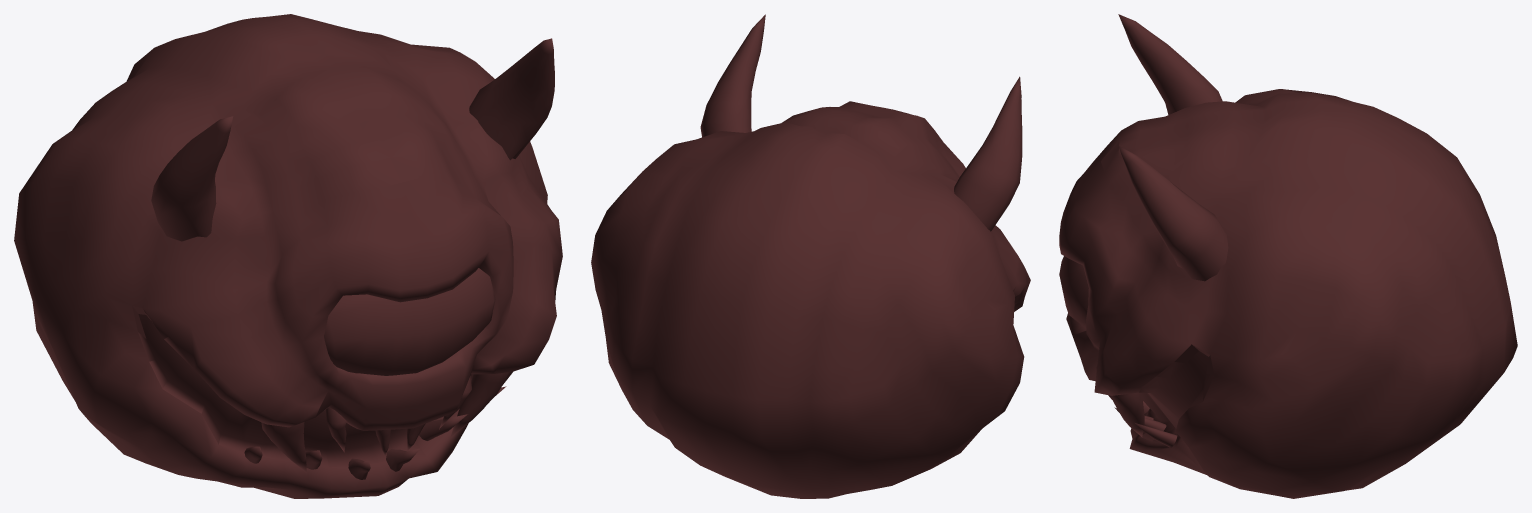
The model's file is Boss - Definitivo.fbx.
3 renders of one model, left to right at view 1: azimuth 30°, elevation 25°; view 2: azimuth 150°, elevation 25°; view 3: azimuth 270°, elevation 25°, orthographic. The views are drawn at different scales.
Parts seen in each view (by area): view 1: Boss_final_poly6; view 2: Boss_final_poly6; view 3: Boss_final_poly6.
Part boxes in pixels (bbox=[...]): Boss_final_poly6: bbox=[14, 14, 562, 498]; Boss_final_poly6: bbox=[591, 14, 1030, 498]; Boss_final_poly6: bbox=[1059, 14, 1517, 498].
Bounding box in the file's own units: 2.44 × 2.3 × 2.41.
